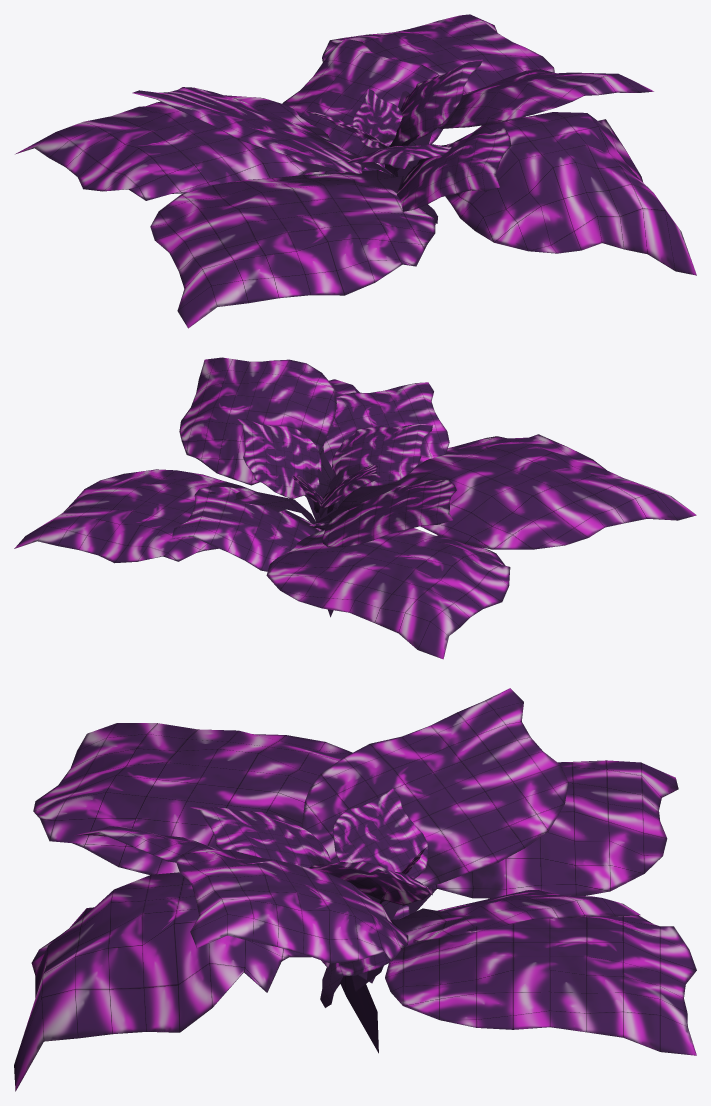
The model's file is plant_1.fbx.
3 renders of one model, top to bottom at view 1: azimuth 30°, elevation 25°; view 2: azimuth 150°, elevation 25°; view 3: azimuth 270°, elevation 25°, orthographic. The views are drawn at different scales.
Parts seen in each view (by area): view 1: pasted__pasted__pasted__pasted__pasted__leaf; view 2: pasted__pasted__pasted__pasted__pasted__leaf; view 3: pasted__pasted__pasted__pasted__pasted__leaf.
Part boxes in pixels (x1=…): pasted__pasted__pasted__pasted__pasted__leaf: x1=15, y1=14, x2=696, y2=328; pasted__pasted__pasted__pasted__pasted__leaf: x1=14, y1=357, x2=696, y2=659; pasted__pasted__pasted__pasted__pasted__leaf: x1=14, y1=688, x2=696, y2=1091.
Size of the model in its own units: 2799 by 1035 by 2434.
Materials: 1 (1 with a texture image).
